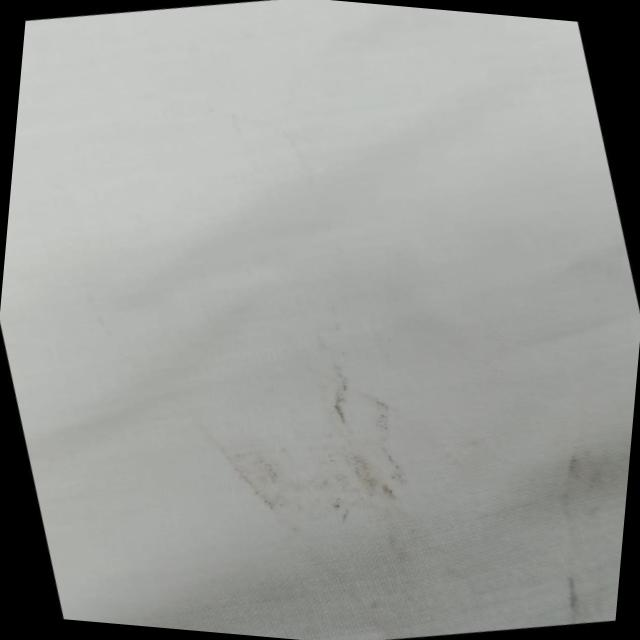stain: (144, 316, 494, 588), (482, 388, 634, 632)
